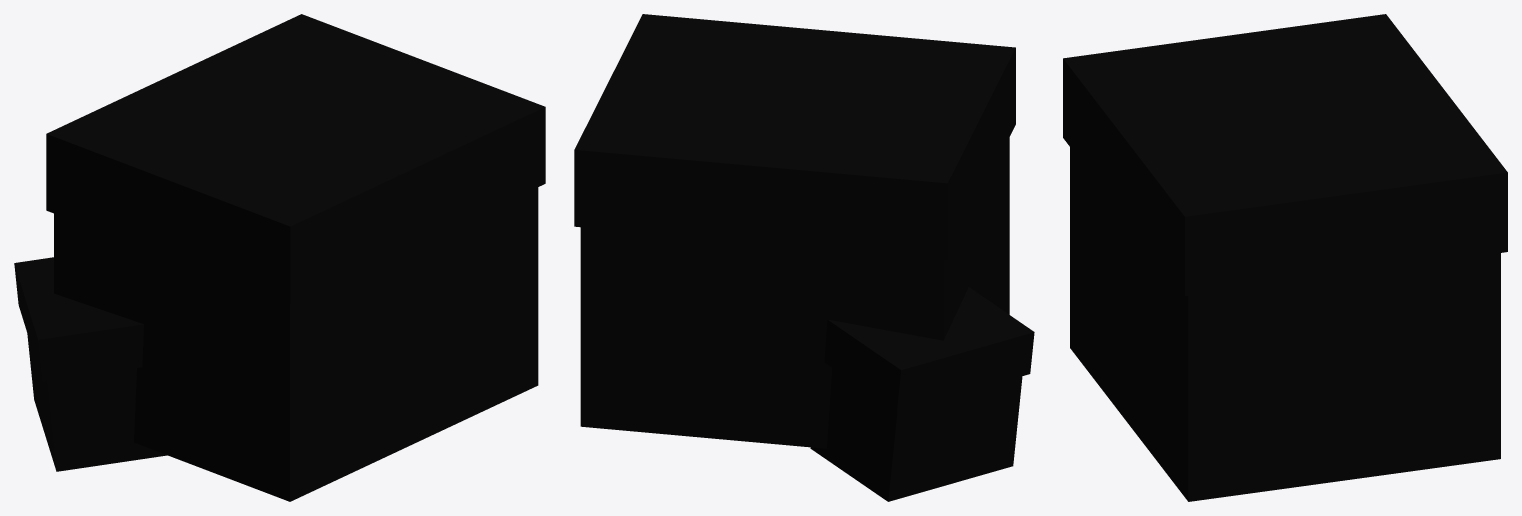
Rendered from snow_rock.gltf.
3 views of the same model, side by side, from view 1: azimuth 30°, elevation 25°; view 2: azimuth 150°, elevation 25°; view 3: azimuth 270°, elevation 25° (orthographic). The views are drawn at different scales.
Parts seen in each view (by area): view 1: snow_top, rock_a, snow_patch, rock_b; view 2: snow_top, rock_a, rock_b, snow_patch; view 3: snow_top, rock_a.
Boxes of the visible parts, x1=… form: snow_top: x1=46, y1=14, x2=545, y2=303; rock_a: x1=54, y1=187, x2=538, y2=501; snow_patch: x1=14, y1=257, x2=143, y2=381; rock_b: x1=27, y1=334, x2=167, y2=471; snow_top: x1=574, y1=14, x2=1015, y2=260; rock_a: x1=580, y1=137, x2=1009, y2=448; rock_b: x1=810, y1=368, x2=1022, y2=501; snow_patch: x1=824, y1=287, x2=1034, y2=411; snow_top: x1=1063, y1=14, x2=1507, y2=296; rock_a: x1=1070, y1=147, x2=1500, y2=501.
Bounding box in the file's own units: 0.6125 × 0.3952 × 0.5076.
2 materials, 2 textured.
